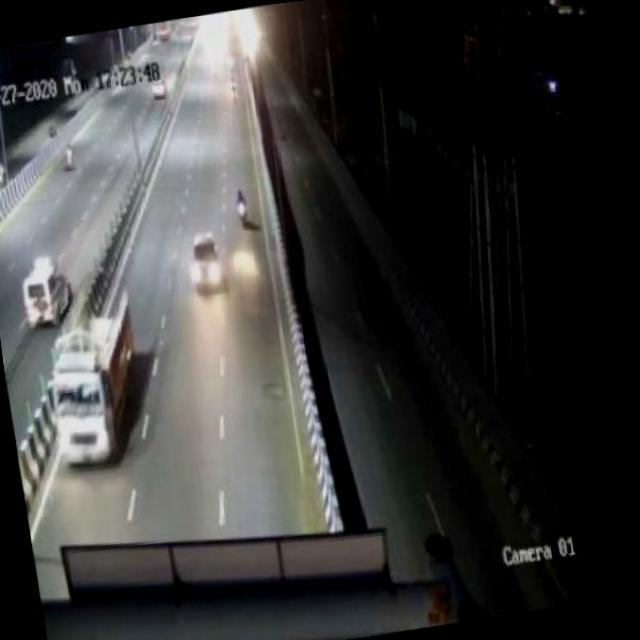car: (184, 224, 227, 294)
